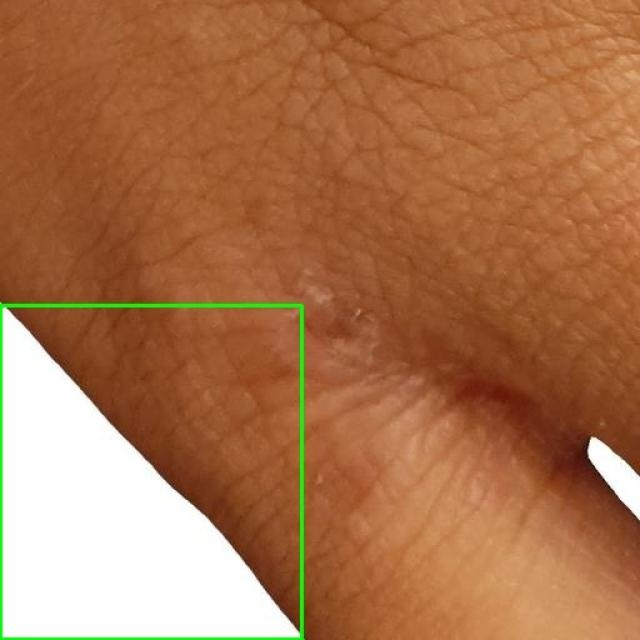Scabies: (0, 305, 301, 639)
